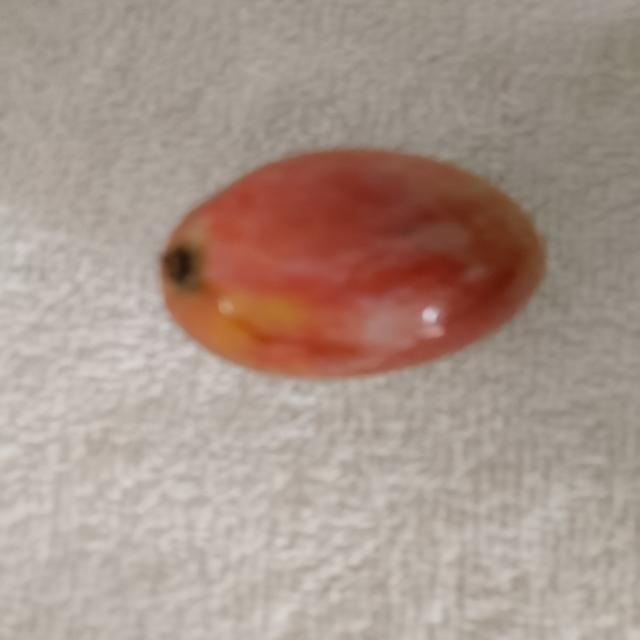mango: (157, 145, 554, 384)
